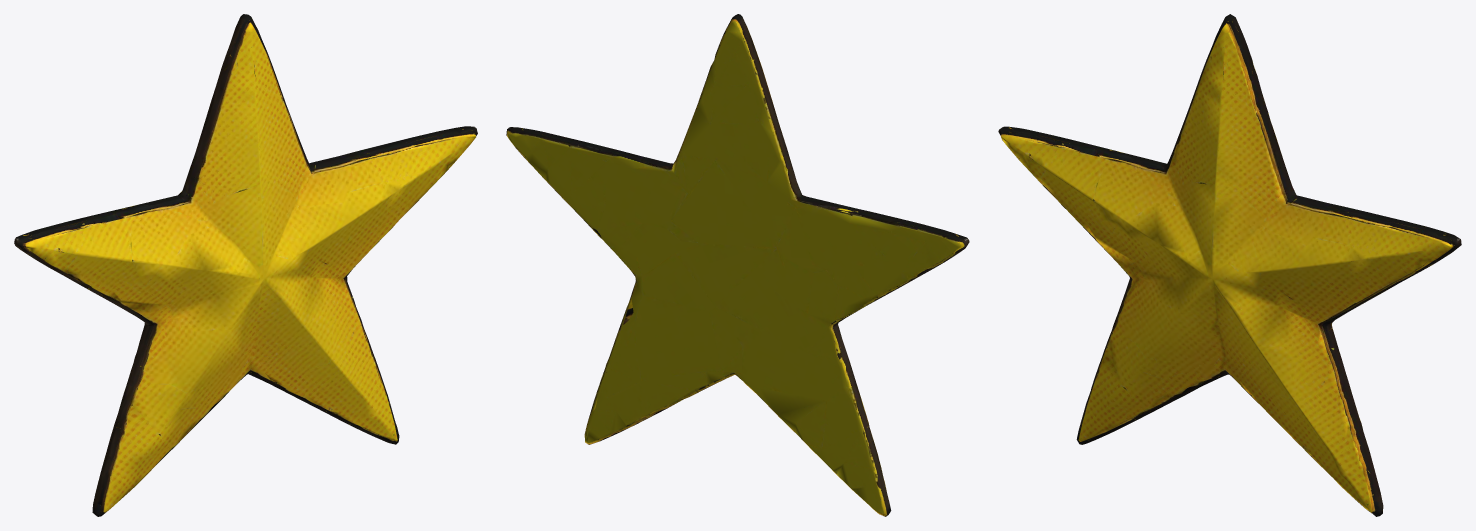
Rendered from stars.glb.
3 renders of one model, left to right at view 1: azimuth 30°, elevation 25°; view 2: azimuth 150°, elevation 25°; view 3: azimuth 330°, elevation 25°, orthographic.
Bounding box in the file's own units: 1.9 × 1.83 × 0.1564.
Materials: 1 (1 with a texture image).
